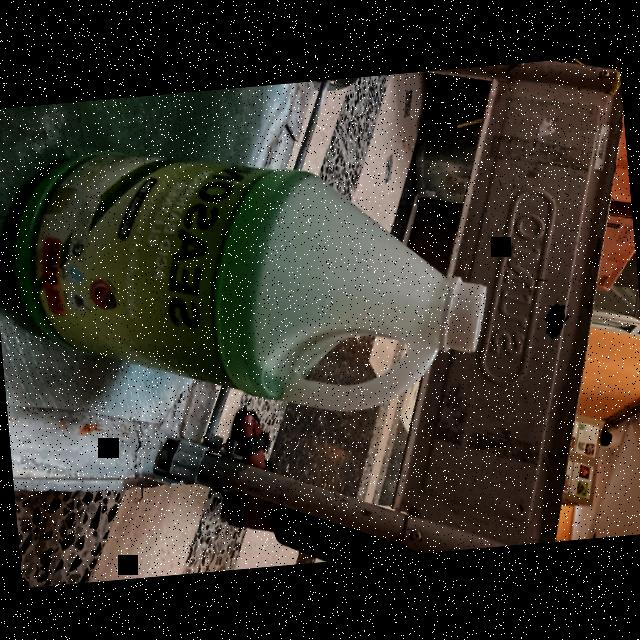chemical_plastic_gallon: (1, 113, 500, 440)
